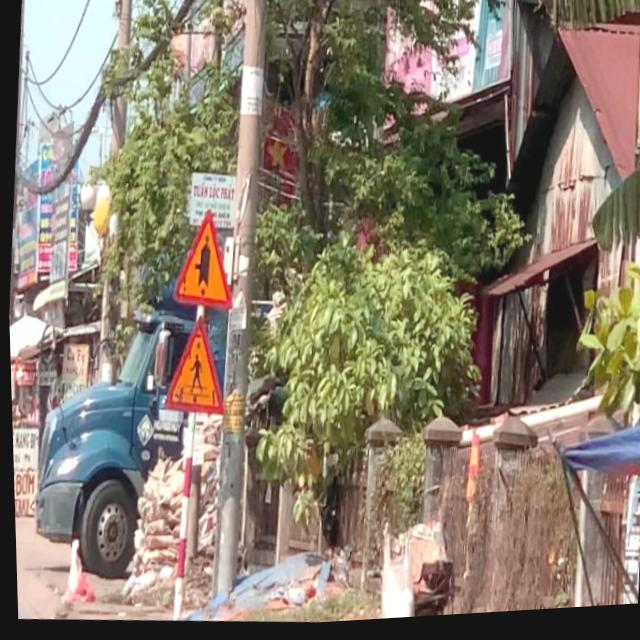Giao nhau voi duong khong uu tien ben trai: (166, 206, 239, 316)
Nguoi di bo cat ngang: (158, 312, 228, 421)
